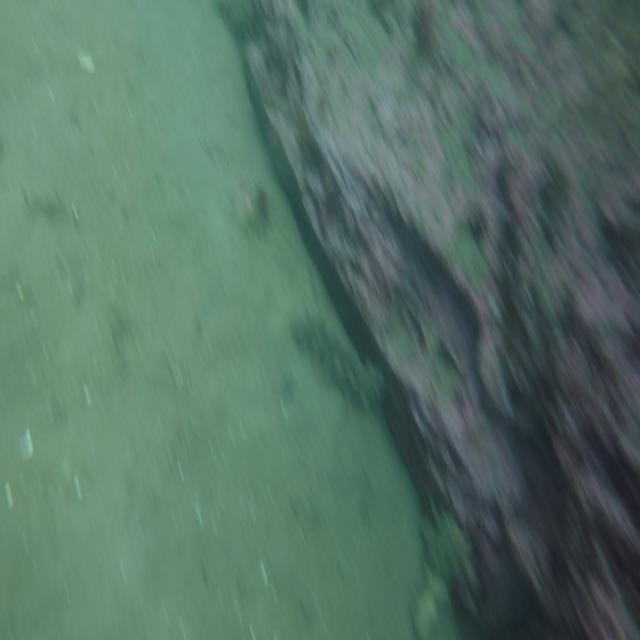holothurian: (289, 304, 389, 413), (411, 502, 473, 640)
